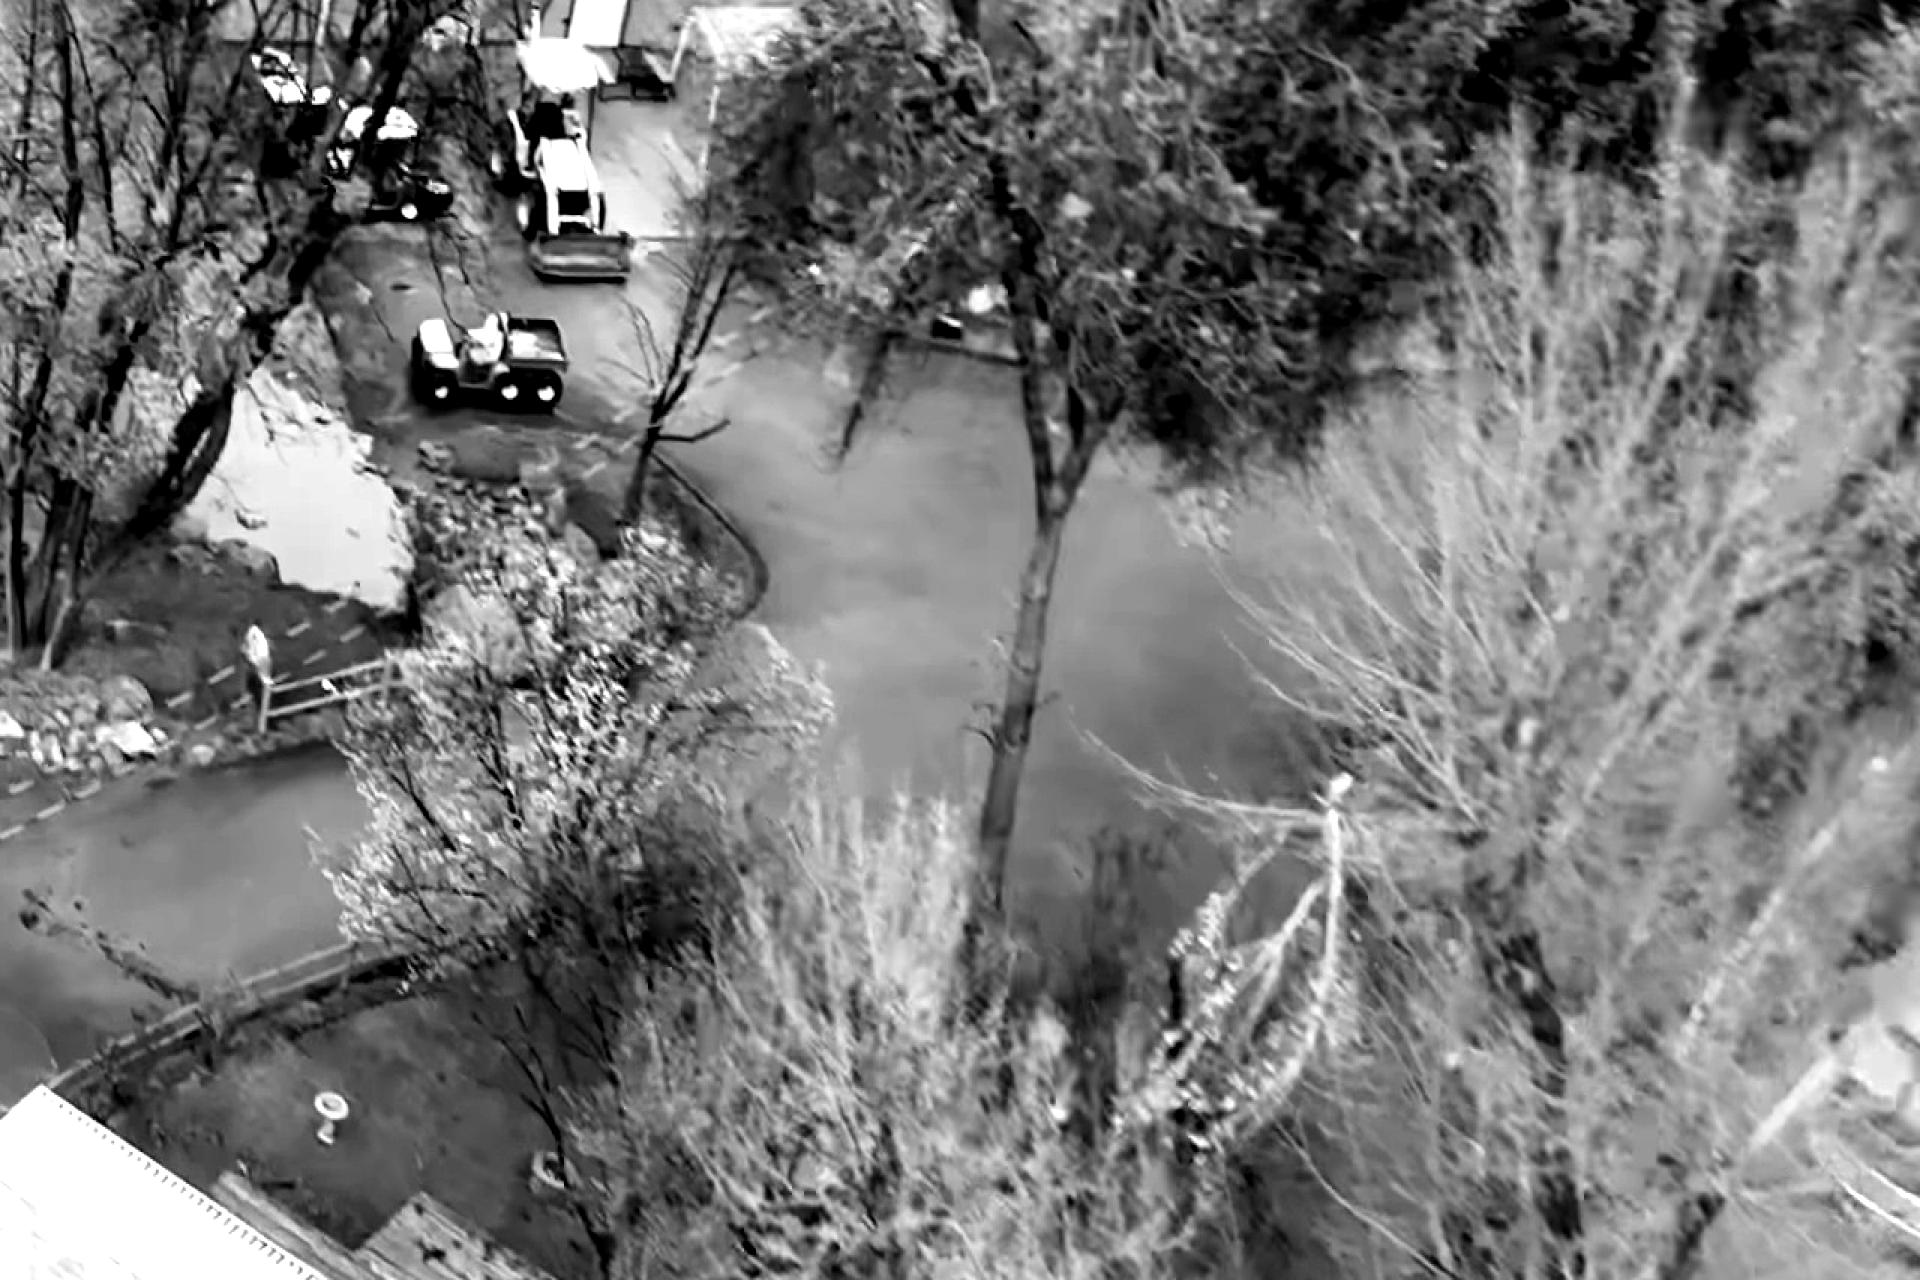House: (0, 1084, 821, 1280), (159, 0, 779, 44)
Vehicle: (414, 300, 566, 417)
